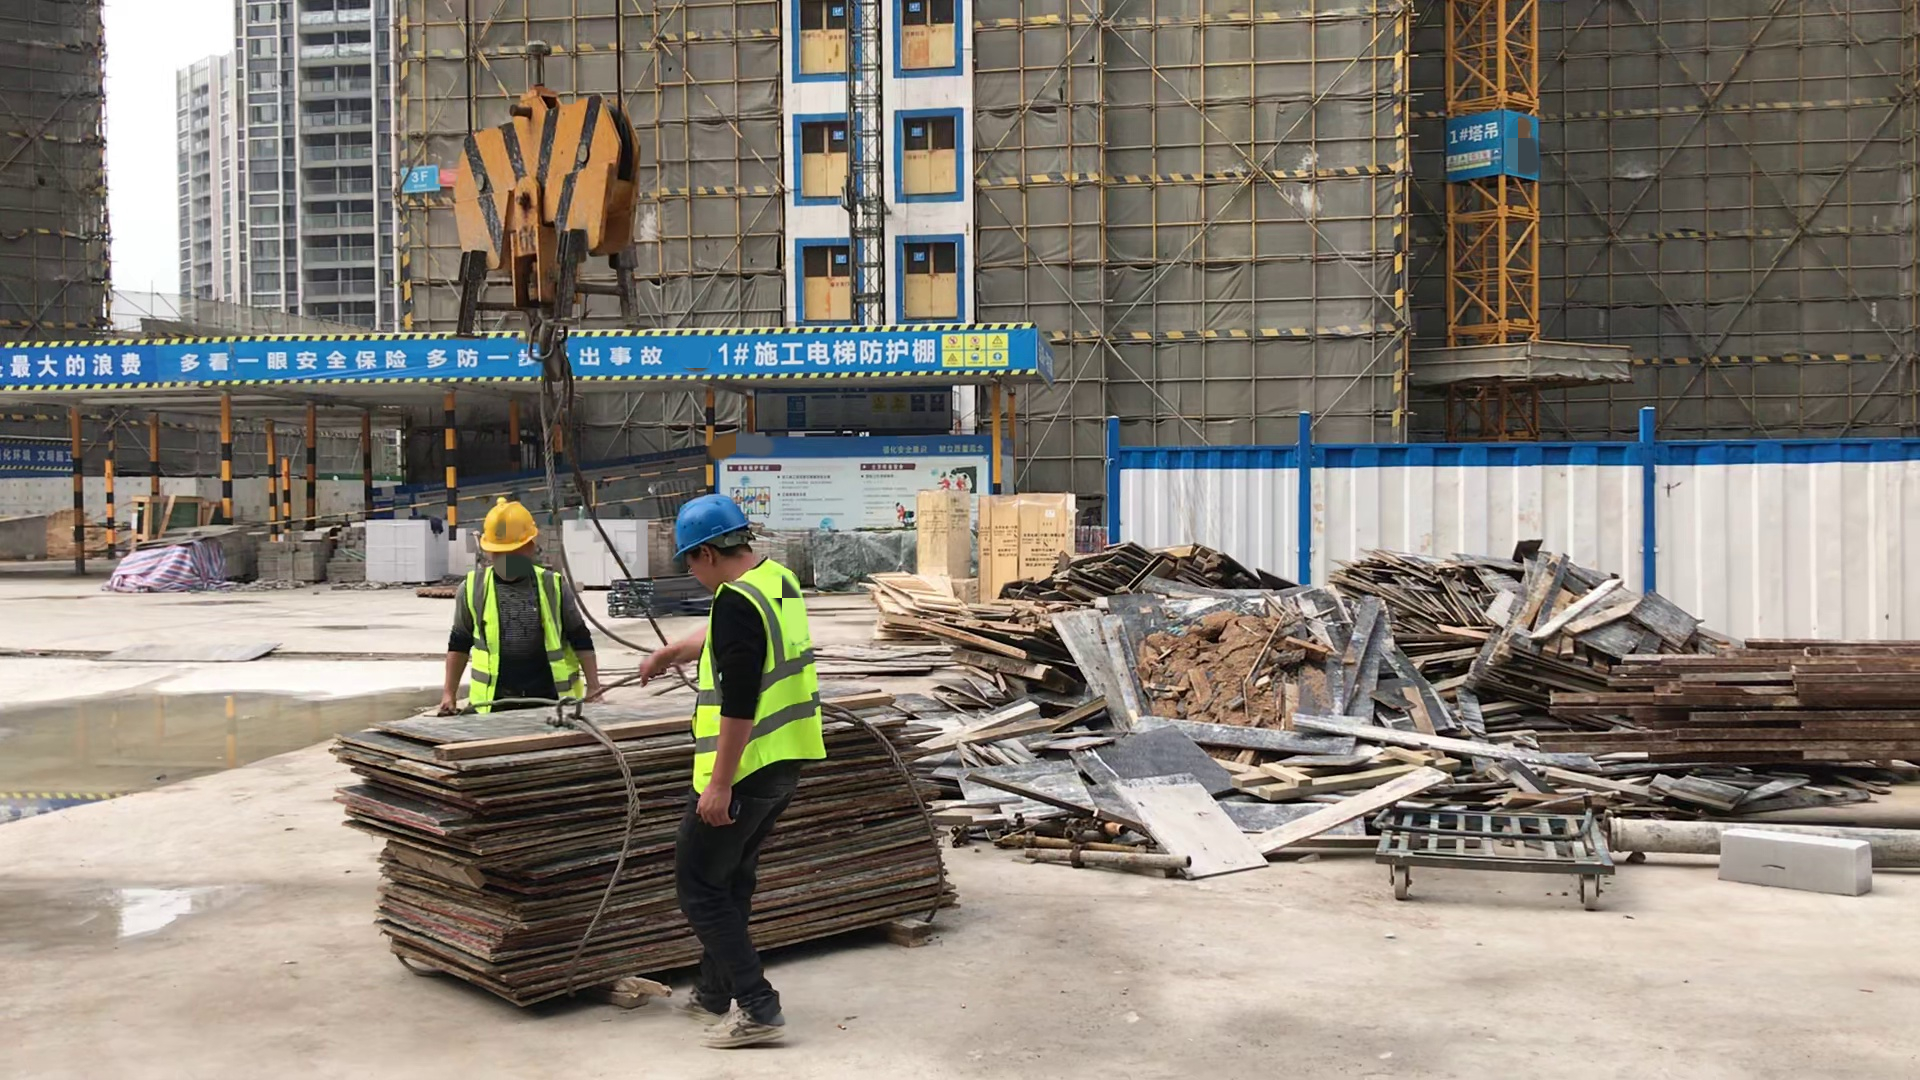board: (322, 697, 974, 1006)
brick: (366, 516, 470, 586), (564, 519, 646, 591)
helmet: (665, 495, 751, 558), (477, 502, 539, 554)
hook: (451, 91, 644, 384)
person: (640, 490, 821, 1053), (440, 501, 606, 711)
slogan: (9, 342, 663, 376), (940, 336, 1010, 366), (1447, 150, 1496, 172)
vest: (689, 558, 820, 791), (458, 568, 585, 702)
